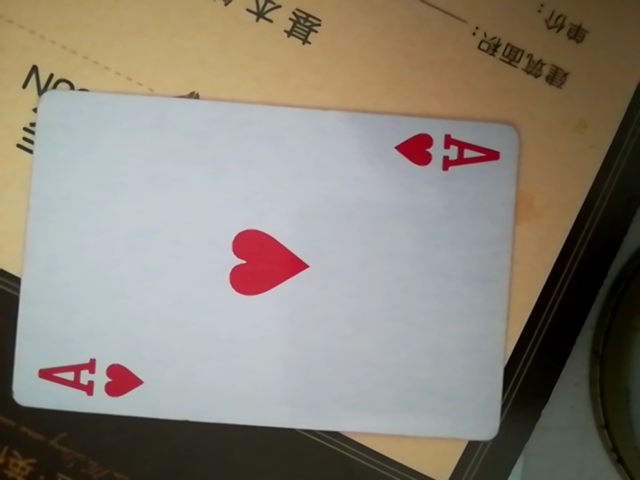hx a: (4, 88, 516, 440)
